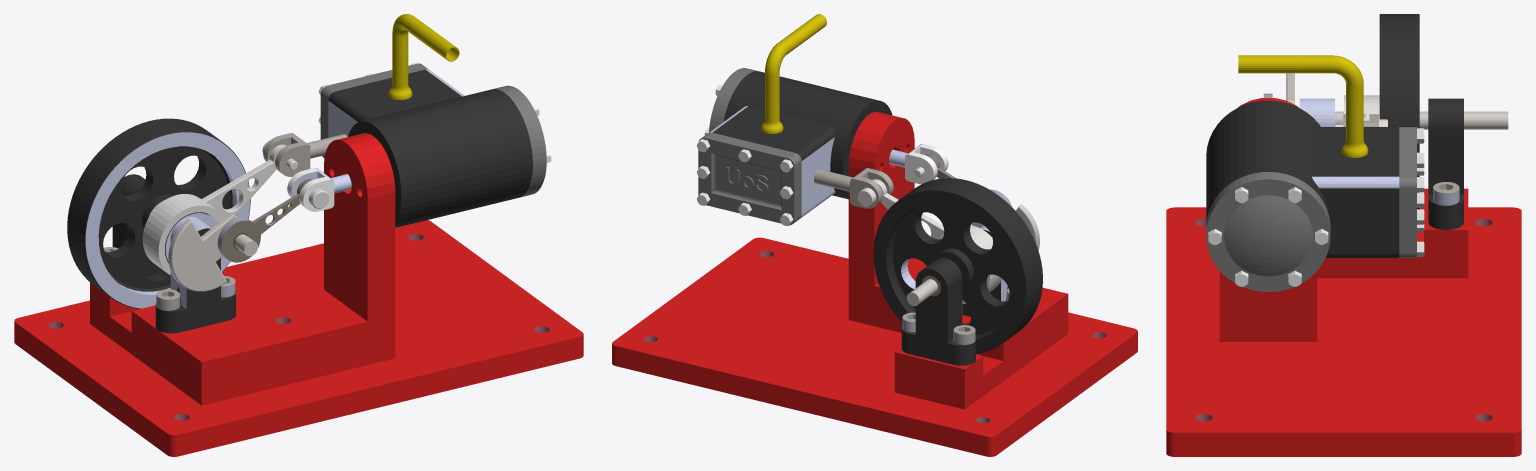
Rendered from Mini_stationary_steam_engine.fbx.
3 views of the same model, side by side, from view 1: azimuth 30°, elevation 25°; view 2: azimuth 150°, elevation 25°; view 3: azimuth 270°, elevation 25° (orthographic). The views are drawn at different scales.
Parts seen in each view (by area): view 1: Shape_IndexedFaceSet.012, Shape_IndexedFaceSet.033, Shape_IndexedFaceSet.013, Shape_IndexedFaceSet.038, Shape_IndexedFaceSet.035, Shape_IndexedFaceSet.027, Shape_IndexedFaceSet.041, Shape_IndexedFaceSet.032, Shape_IndexedFaceSet.018, Shape_IndexedFaceSet.037, Shape_IndexedFaceSet.021, Shape_IndexedFaceSet.039 (+1 smaller); view 2: Shape_IndexedFaceSet.012, Shape_IndexedFaceSet.013, Shape_IndexedFaceSet.033, Shape_IndexedFaceSet.039, Shape_IndexedFaceSet.015, Shape_IndexedFaceSet.041, Shape_IndexedFaceSet.018, Shape_IndexedFaceSet.021, Shape_IndexedFaceSet.038, Shape_IndexedFaceSet.035, Shape_IndexedFaceSet.037; view 3: Shape_IndexedFaceSet.012, Shape_IndexedFaceSet.033, Shape_IndexedFaceSet.037, Shape_IndexedFaceSet.013, Shape_IndexedFaceSet.015, Shape_IndexedFaceSet.041, Shape_IndexedFaceSet.039, Shape_IndexedFaceSet.035, Shape_IndexedFaceSet.027, Shape_IndexedFaceSet.029, Shape_IndexedFaceSet.038.
Part boxes in pixels (box(x1,y1,x2,y2)): Shape_IndexedFaceSet.012: box(14, 133, 583, 456); Shape_IndexedFaceSet.033: box(328, 69, 532, 227); Shape_IndexedFaceSet.013: box(67, 118, 250, 308); Shape_IndexedFaceSet.038: box(142, 144, 286, 275); Shape_IndexedFaceSet.035: box(168, 213, 257, 291); Shape_IndexedFaceSet.027: box(155, 216, 235, 333); Shape_IndexedFaceSet.041: box(388, 14, 459, 99); Shape_IndexedFaceSet.032: box(217, 179, 312, 262); Shape_IndexedFaceSet.018: box(263, 133, 347, 176); Shape_IndexedFaceSet.037: box(493, 85, 546, 197); Shape_IndexedFaceSet.021: box(287, 167, 351, 211); Shape_IndexedFaceSet.039: box(320, 63, 428, 157); Shape_IndexedFaceSet.012: box(612, 111, 1137, 456); Shape_IndexedFaceSet.013: box(873, 178, 1042, 353); Shape_IndexedFaceSet.033: box(709, 71, 892, 218); Shape_IndexedFaceSet.039: box(698, 132, 801, 225); Shape_IndexedFaceSet.015: box(901, 258, 975, 365); Shape_IndexedFaceSet.041: box(761, 14, 826, 133); Shape_IndexedFaceSet.018: box(814, 168, 893, 208); Shape_IndexedFaceSet.021: box(889, 143, 948, 184); Shape_IndexedFaceSet.038: box(872, 179, 1001, 303); Shape_IndexedFaceSet.035: box(906, 197, 1039, 306); Shape_IndexedFaceSet.037: box(709, 68, 757, 132); Shape_IndexedFaceSet.012: box(1166, 98, 1521, 456); Shape_IndexedFaceSet.033: box(1206, 100, 1399, 257); Shape_IndexedFaceSet.037: box(1206, 172, 1330, 291); Shape_IndexedFaceSet.013: box(1379, 14, 1419, 209); Shape_IndexedFaceSet.015: box(1428, 98, 1463, 229); Shape_IndexedFaceSet.041: box(1238, 55, 1368, 157); Shape_IndexedFaceSet.039: box(1399, 127, 1416, 257); Shape_IndexedFaceSet.035: box(1286, 73, 1508, 129); Shape_IndexedFaceSet.027: box(1299, 98, 1334, 126); Shape_IndexedFaceSet.029: box(1433, 182, 1459, 205); Shape_IndexedFaceSet.038: box(1344, 95, 1379, 120).
Size of the model in its own units: 6 by 4.29 by 4.
